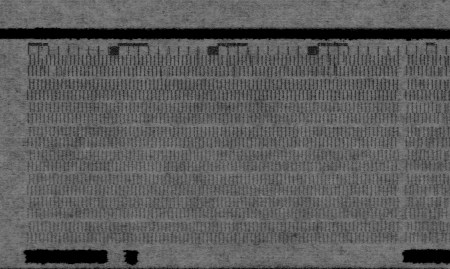Broken hole: (47, 65, 59, 77)
Oblique printing: (320, 50, 348, 81), (421, 218, 450, 243), (432, 50, 450, 79), (435, 100, 450, 125), (36, 53, 50, 70), (245, 53, 260, 68)
